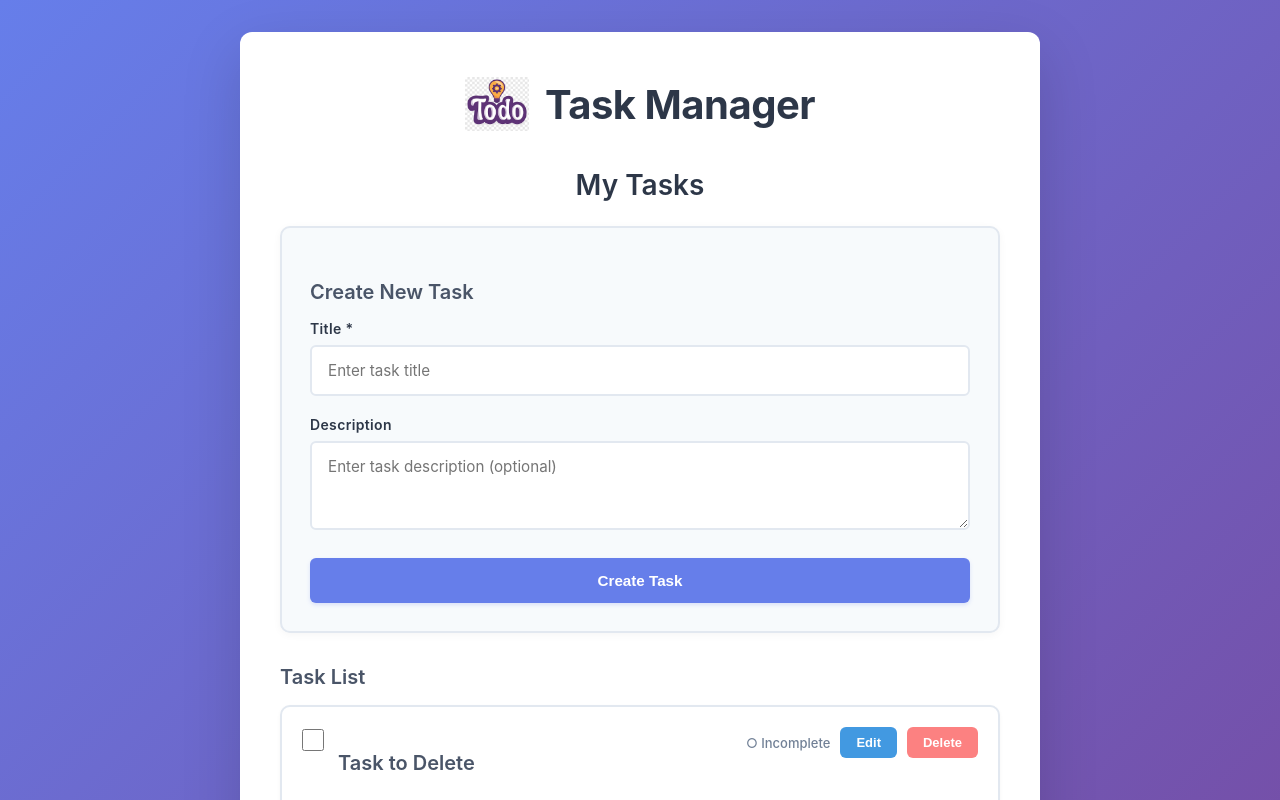
App Component › Integration Tests - Complete User Flows › Task Deletion Flow › should handle 404 gracefully during deletion
Check: the heading "Task to Delete" is shown, box [338,751,475,775]
# Click delete button
Click the button named "delete task \"task to delete\"". click: [942, 742]
box: [907,727,978,758]
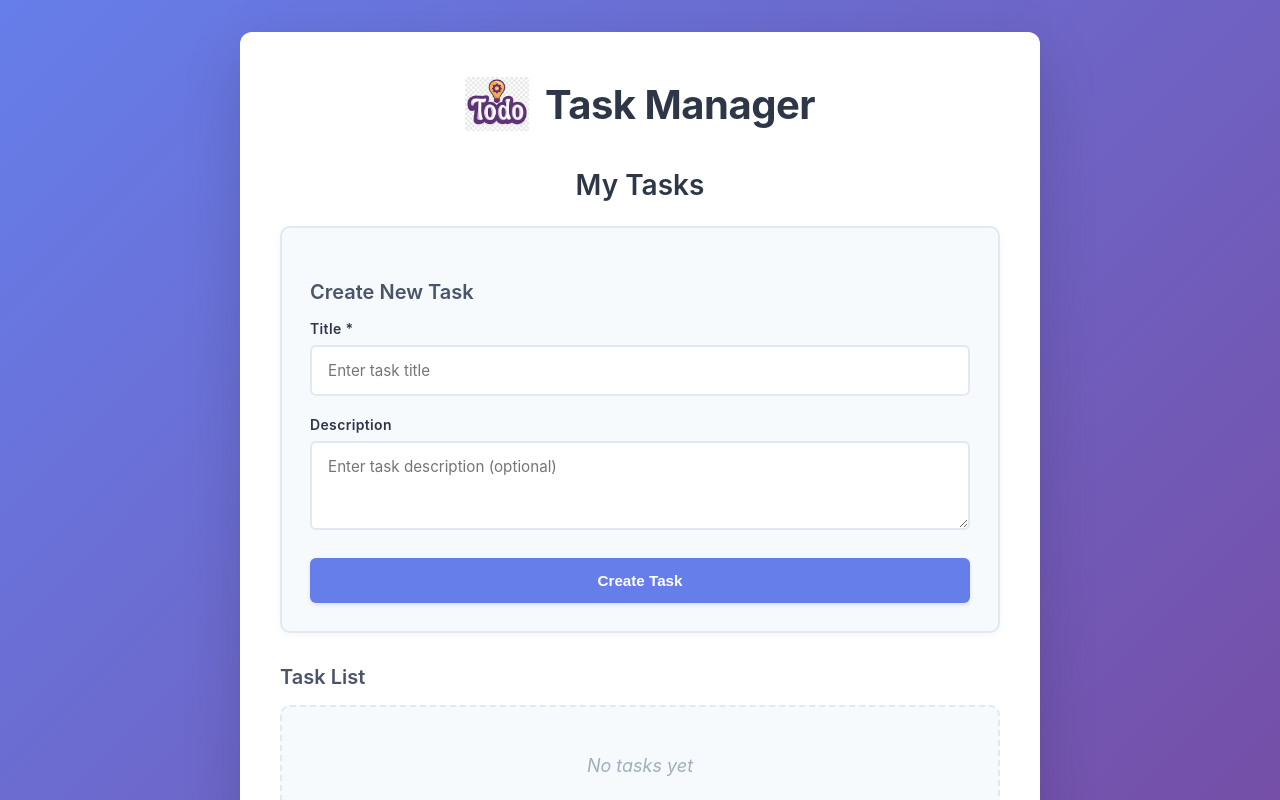
Check: the heading "Task to Delete" is gone
